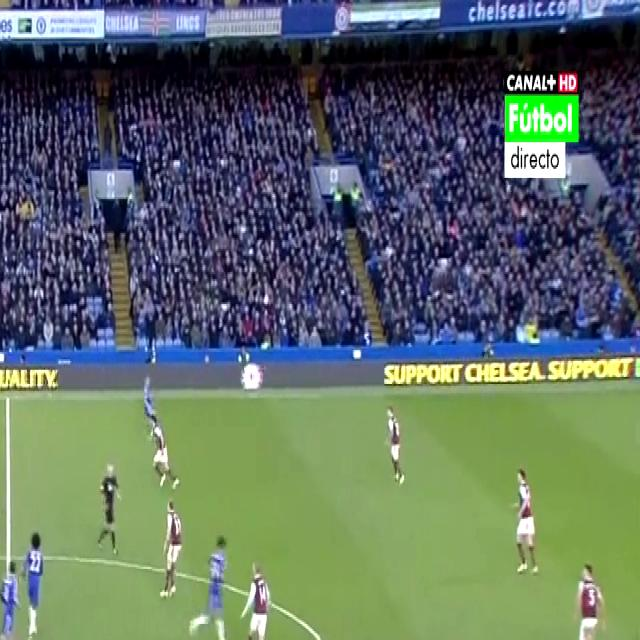referee: (91, 454, 121, 564)
soccer-player: (184, 522, 236, 640), (506, 461, 541, 586), (232, 551, 276, 640), (22, 522, 53, 640), (571, 549, 611, 640), (155, 492, 186, 605), (382, 398, 412, 496), (145, 412, 179, 497), (0, 553, 29, 640), (139, 366, 162, 445), (0, 484, 2, 599)
